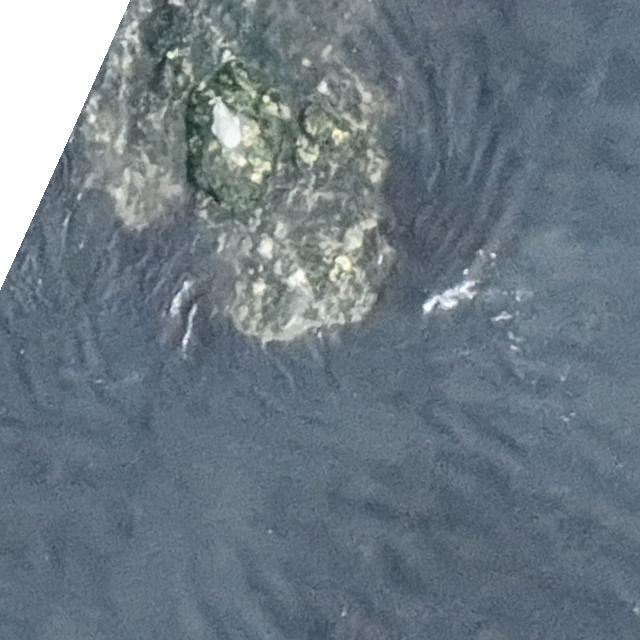umineko: (212, 101, 238, 147)
